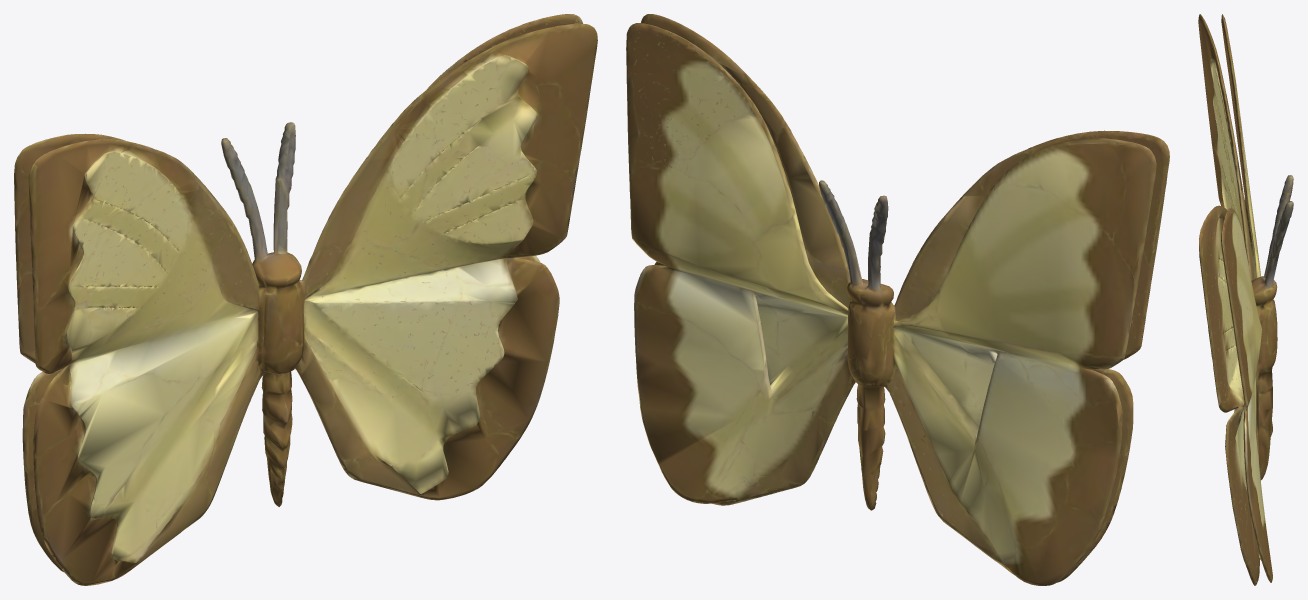
The model's file is yellowbutterfly.glb.
The picture shows the model from 3 angles, left to right: view 1: azimuth 30°, elevation 25°; view 2: azimuth 150°, elevation 25°; view 3: azimuth 270°, elevation 25°; orthographic projection. The views are drawn at different scales.
Visible parts, largest first — view 1: node_0; view 2: node_0; view 3: node_0.
Boxes of the visible parts, box(x1,y1,x2,y2) form: node_0: box(14, 14, 597, 585); node_0: box(626, 14, 1169, 585); node_0: box(1198, 14, 1293, 585).
Bounding box in the file's own units: 0.9456 × 0.7587 × 0.1682.
Materials: 1 (1 with a texture image).
